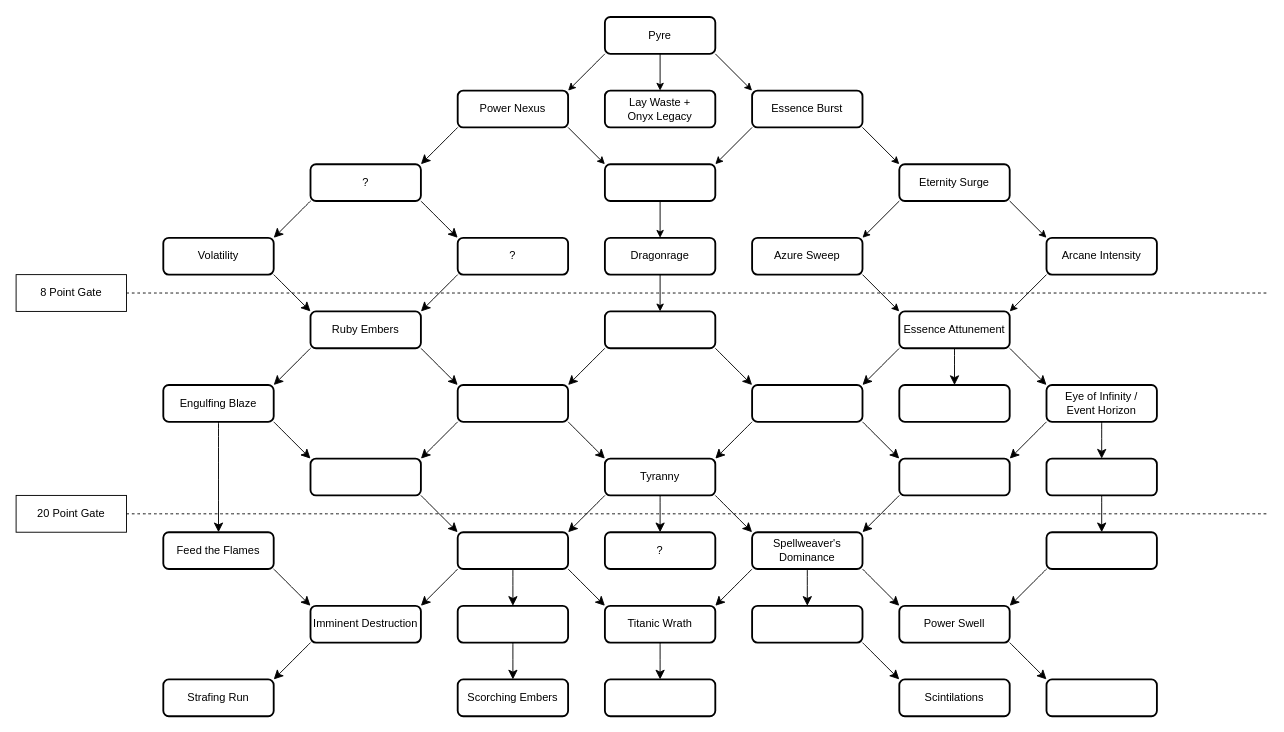
This 1284x732 diagram has some shape labels left out. The centre of each missing label's shape, as x and y in pixels:
Animosity: (660,329)
Azure Celerity: (807,623)
Burnout: (512,550)
Catalyze: (365,476)
Causality: (660,697)
Charged Blast: (954,476)
Eternity's Span: (954,403)
Font of Magic: (512,623)
Heat Wave: (512,403)
Honed Aggression: (807,403)
Iridescence: (1101,697)
Quell: (660,182)
Shattering Star: (1101,476)
Star Salvo: (1101,550)
